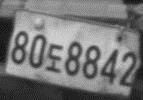0: (29, 33, 47, 68)
2: (118, 50, 137, 91)
4: (99, 47, 119, 85)
8: (81, 44, 102, 79), (63, 40, 83, 76), (10, 30, 29, 65)
도: (45, 43, 64, 73)
